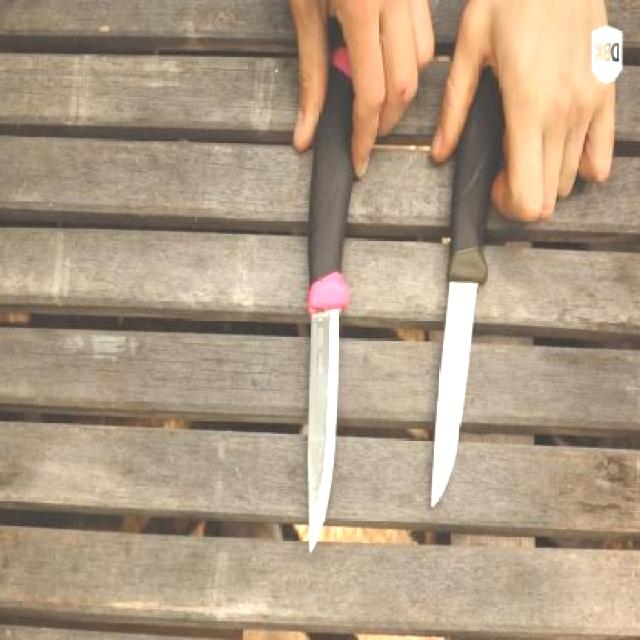knife: (416, 216, 498, 526), (294, 246, 358, 566)
